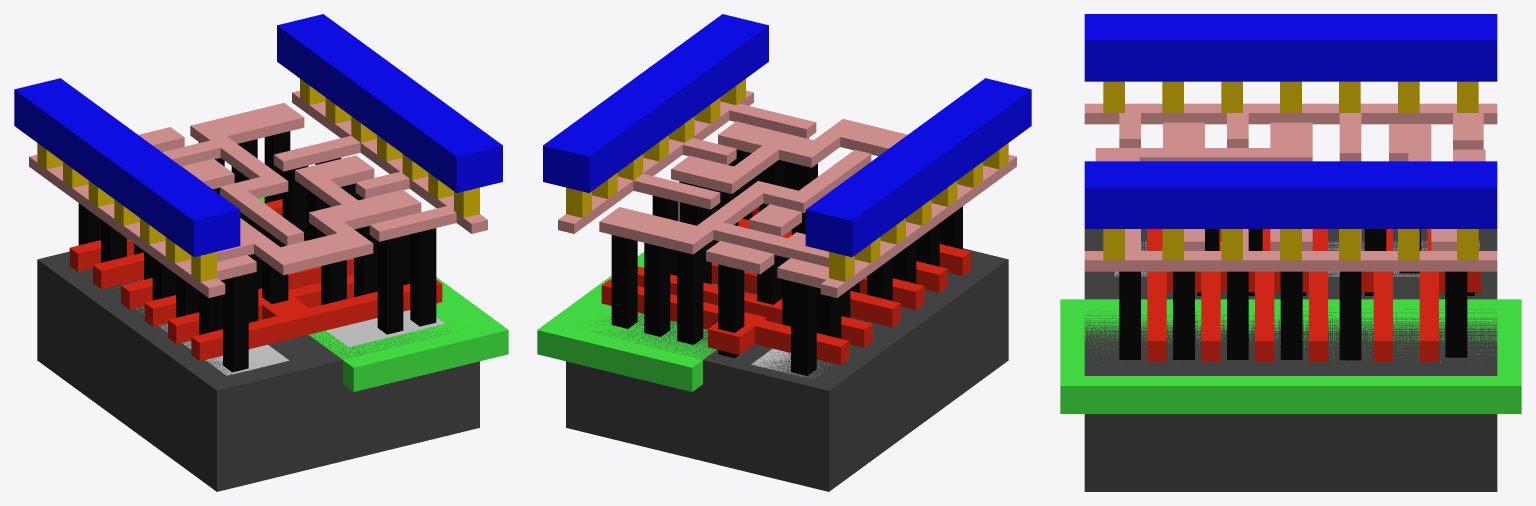
Rendered from sky130_fd_sc_hd__or2_4.obj.
3 views of the same model, side by side, from view 1: azimuth 30°, elevation 25°; view 2: azimuth 150°, elevation 25°; view 3: azimuth 270°, elevation 25° (orthographic). The views are drawn at different scales.
Visible parts, largest first — view 1: subs, metal1, li, licon, poly, nwell, mcon, tap, diff; view 2: subs, metal1, li, licon, poly, nwell, mcon, diff; view 3: metal1, subs, nwell, li, poly, licon, mcon.
Part boxes in pixels (x1,y1,x2,y2): subs: [37, 251, 479, 491]; metal1: [14, 14, 502, 257]; li: [29, 90, 487, 297]; licon: [78, 131, 436, 372]; poly: [69, 199, 442, 360]; nwell: [258, 197, 508, 391]; mcon: [37, 79, 479, 281]; tap: [326, 310, 444, 346]; diff: [117, 281, 289, 375]; subs: [566, 248, 1008, 491]; metal1: [543, 14, 1031, 257]; li: [558, 90, 1016, 297]; licon: [611, 138, 962, 375]; poly: [601, 206, 970, 364]; nwell: [537, 252, 717, 391]; mcon: [566, 79, 1008, 281]; diff: [751, 318, 854, 378]; metal1: [1084, 14, 1497, 228]; subs: [1084, 229, 1497, 491]; nwell: [1060, 299, 1521, 413]; li: [1084, 103, 1497, 271]; poly: [1147, 229, 1481, 361]; licon: [1119, 229, 1474, 360]; mcon: [1103, 81, 1478, 260].
Size of the model in its own units: 3.2 by 2.74 by 3.6.
